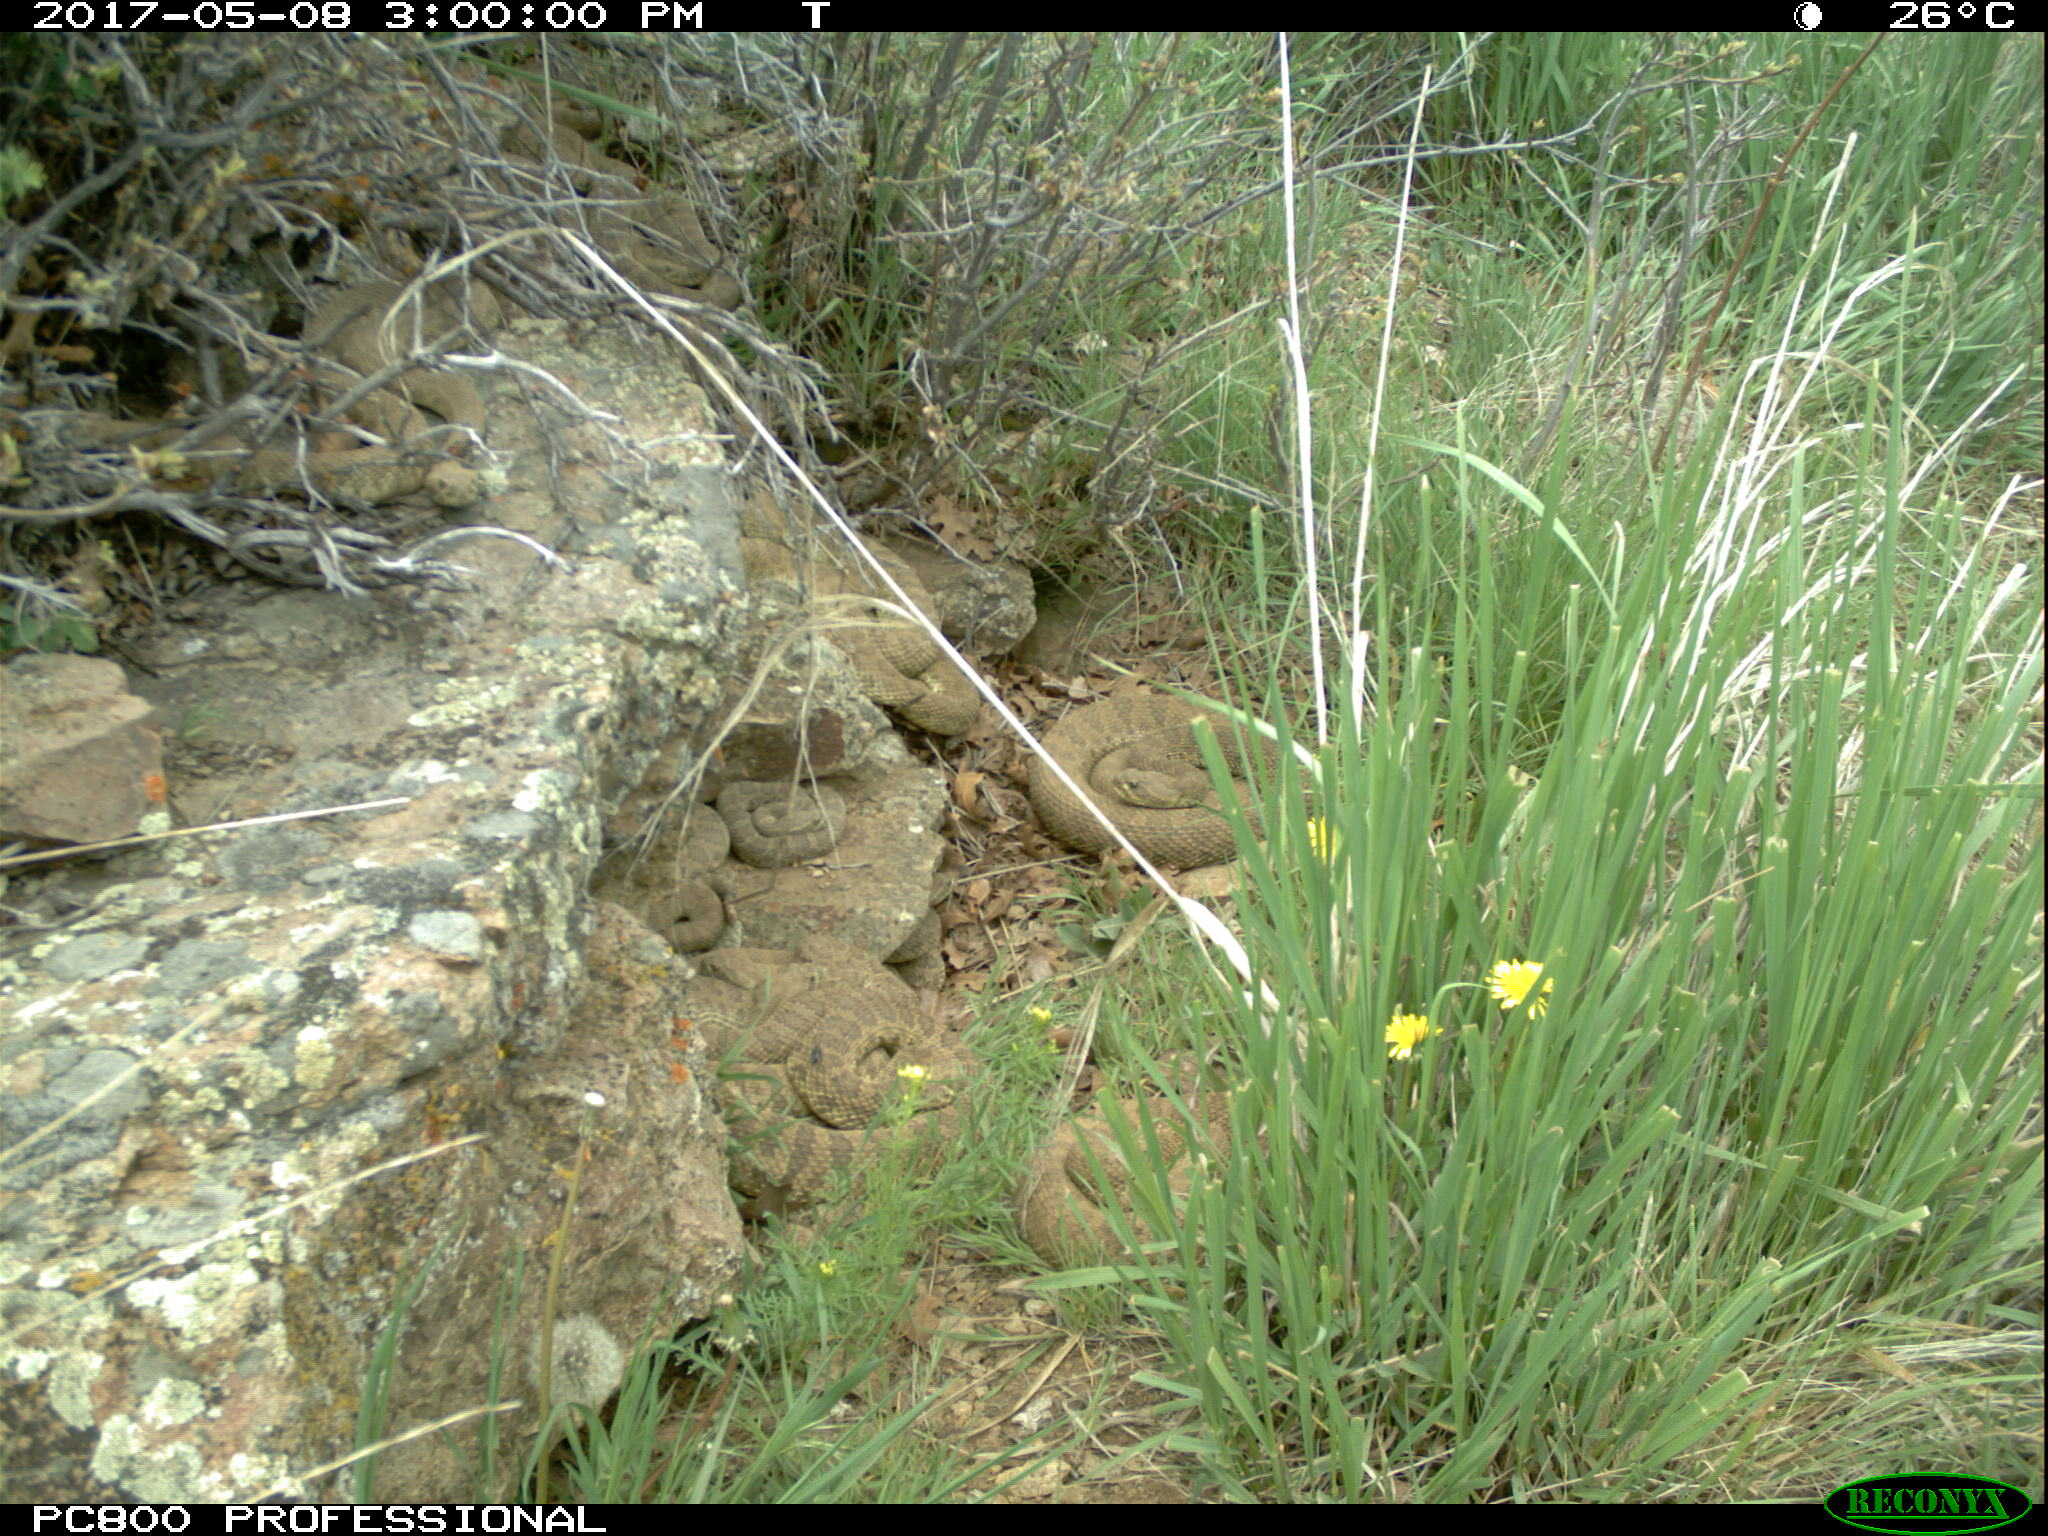snake: (676, 942, 972, 1204), (742, 494, 985, 737), (1019, 1063, 1284, 1276), (289, 257, 485, 521), (1027, 694, 1297, 870), (537, 150, 739, 311), (606, 795, 726, 957), (718, 787, 845, 858)
